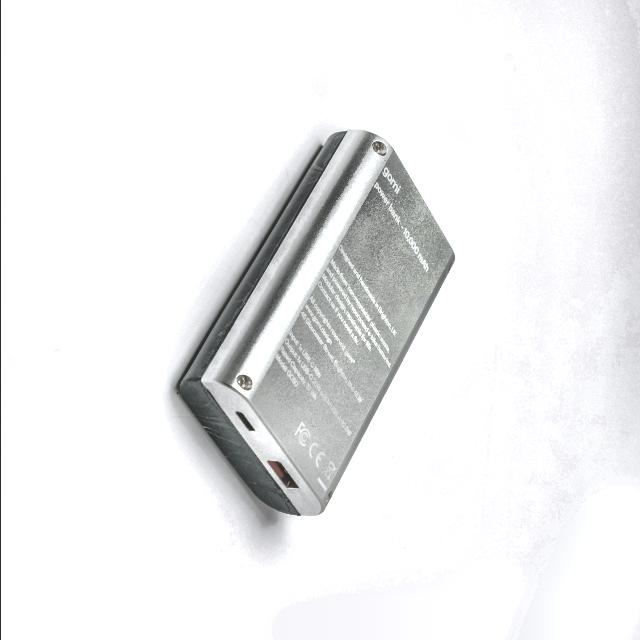Power bank: (178, 130, 453, 515)
